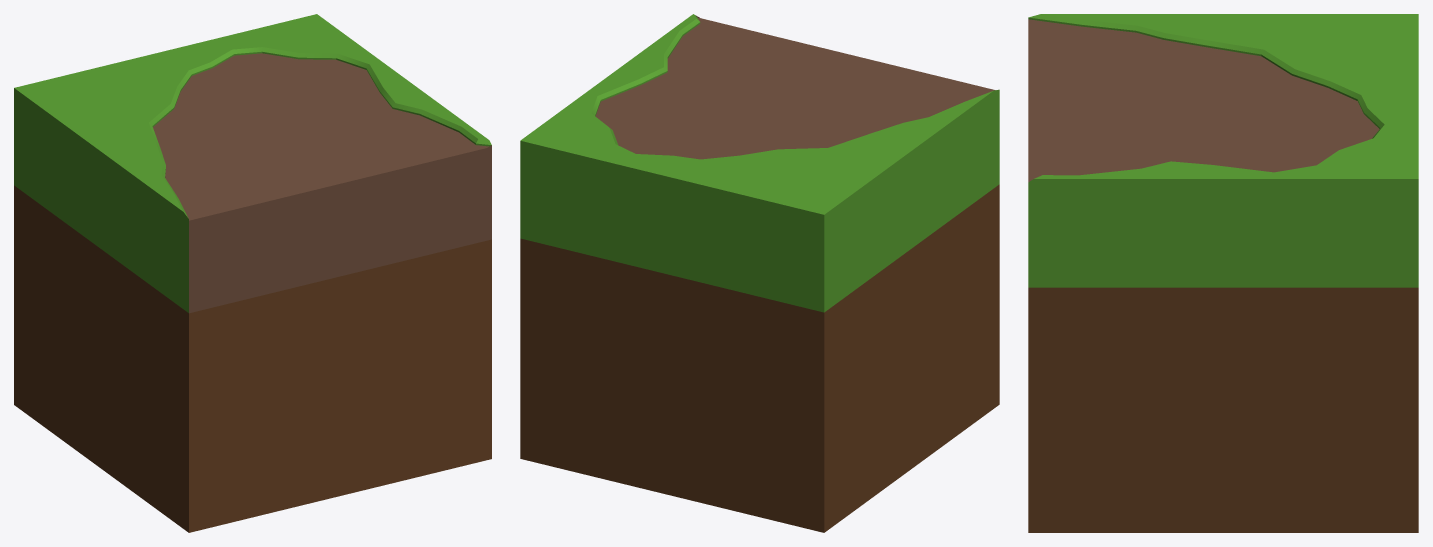
File: Grass-Ground 8.fbx
3 views of the same model, side by side, from view 1: azimuth 30°, elevation 25°; view 2: azimuth 150°, elevation 25°; view 3: azimuth 270°, elevation 25° (orthographic). The views are drawn at different scales.
Visible parts, largest first — view 1: Grass/Ground 8; view 2: Grass/Ground 8; view 3: Grass/Ground 8.
Boxes of the visible parts, <box> form: Grass/Ground 8: <box>14,14,491,532</box>; Grass/Ground 8: <box>520,14,999,532</box>; Grass/Ground 8: <box>1028,14,1418,532</box>.
Size of the model in its own units: 200 by 200 by 200.
